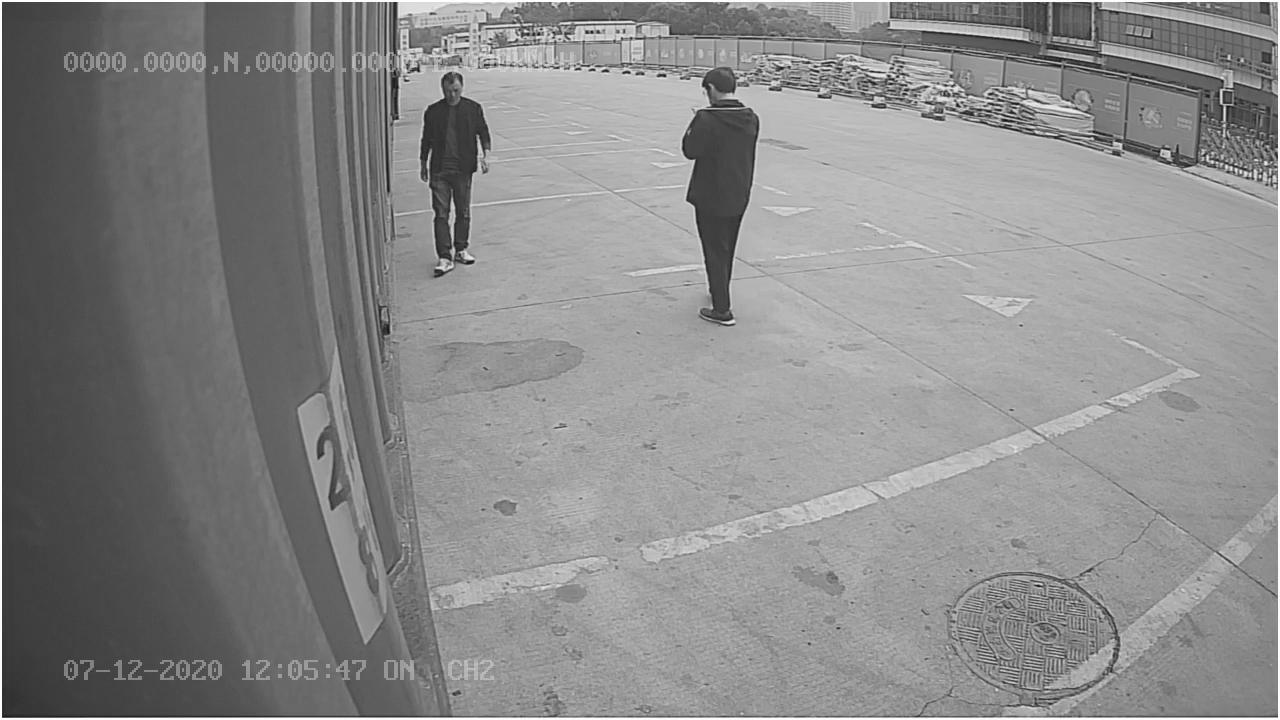person: (674, 67, 773, 331)
